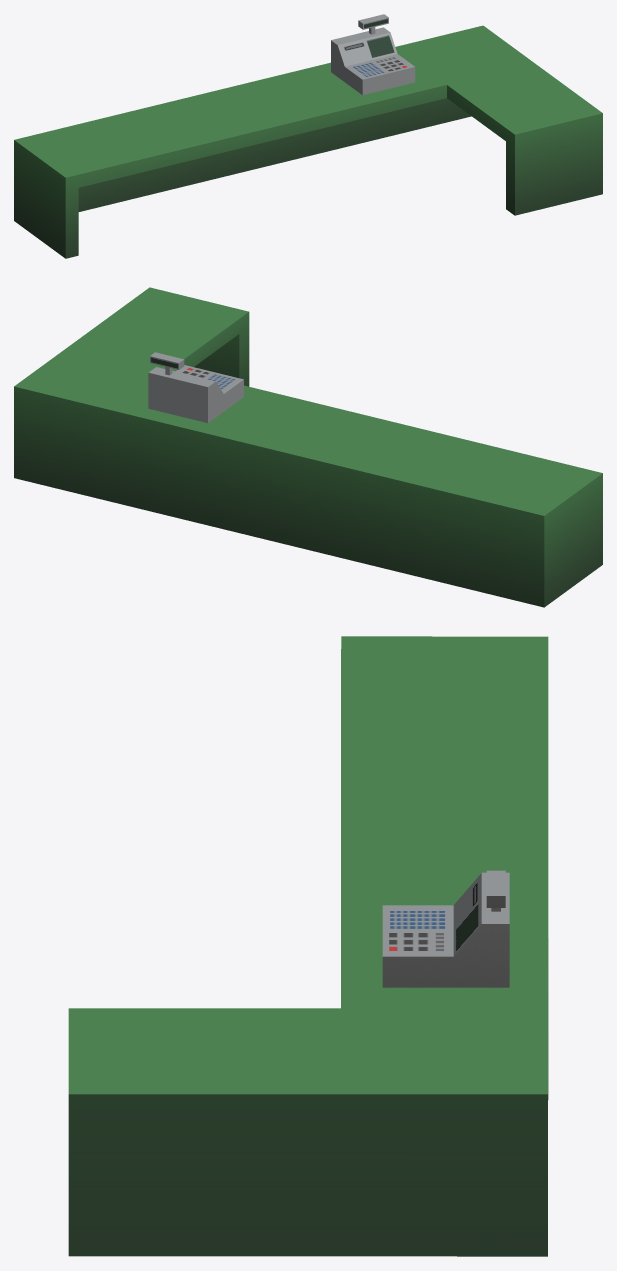
The model's file is cashier ver 2.fbx.
The picture shows the model from 3 angles, top to bottom: view 1: azimuth 30°, elevation 25°; view 2: azimuth 150°, elevation 25°; view 3: azimuth 270°, elevation 25°; orthographic projection. The views are drawn at different scales.
Parts seen in each view (by area): view 1: table, cashier; view 2: table, cashier; view 3: table, cashier.
Part boxes in pixels (<box>): table: <box>14,25,602,258</box>; cashier: <box>331,14,415,95</box>; table: <box>14,287,602,607</box>; cashier: <box>148,352,243,422</box>; table: <box>68,636,548,1256</box>; cashier: <box>382,870,509,987</box>.
Size of the model in its own units: 2434 by 629 by 1078.
1 material, 1 textured.
